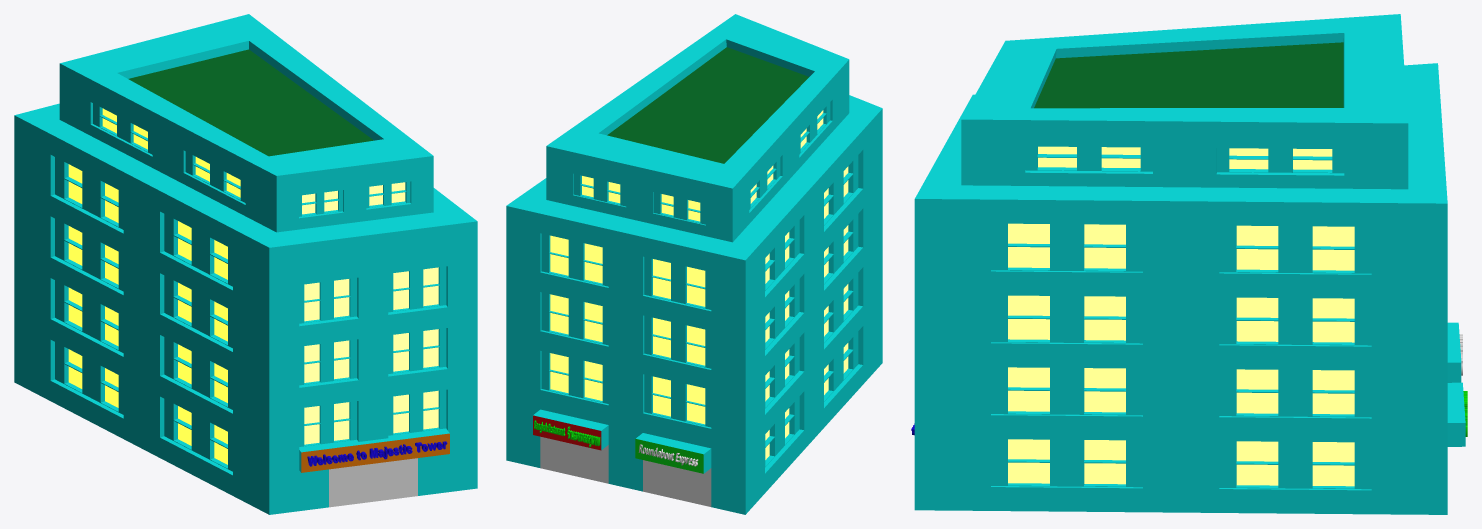
The model's file is majestic_tower.fbx.
The picture shows the model from 3 angles, left to right: view 1: azimuth 30°, elevation 25°; view 2: azimuth 150°, elevation 25°; view 3: azimuth 270°, elevation 25°; orthographic projection. The views are drawn at different scales.
Parts seen in each view (by area): view 1: Plane, Text.003; view 2: Plane, Text; view 3: Plane.
Boxes of the visible parts, <box> form: Plane: <box>14,14,477,514</box>; Text.003: <box>307,441,447,466</box>; Plane: <box>506,14,882,514</box>; Text: <box>638,444,698,466</box>; Plane: <box>914,14,1465,514</box>.
Size of the model in its own units: 348 by 436 by 583.
